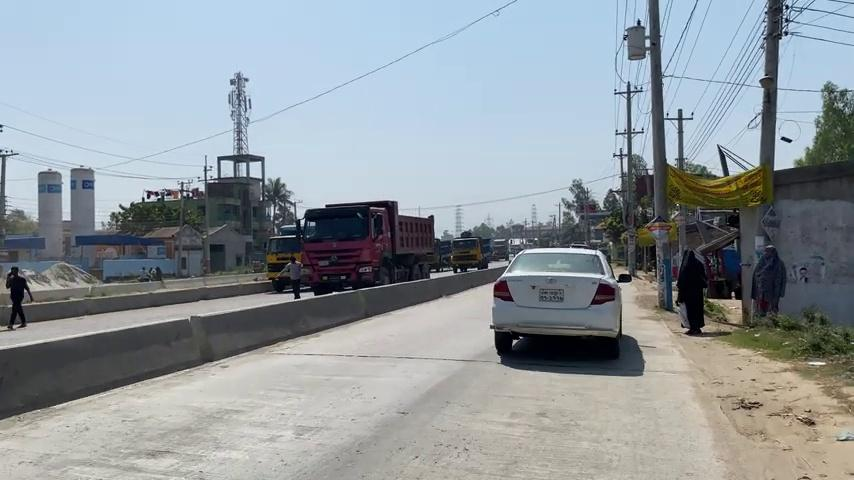Bollard: (489, 246, 631, 358)
Car: (0, 261, 512, 418)
Fence: (675, 248, 708, 335), (751, 244, 786, 317), (5, 266, 34, 330), (276, 255, 303, 299)
Garbage: (737, 0, 783, 325), (647, 0, 673, 310)
Railroad-crossing: (262, 176, 293, 234)
Rickshaw: (295, 199, 436, 295)
